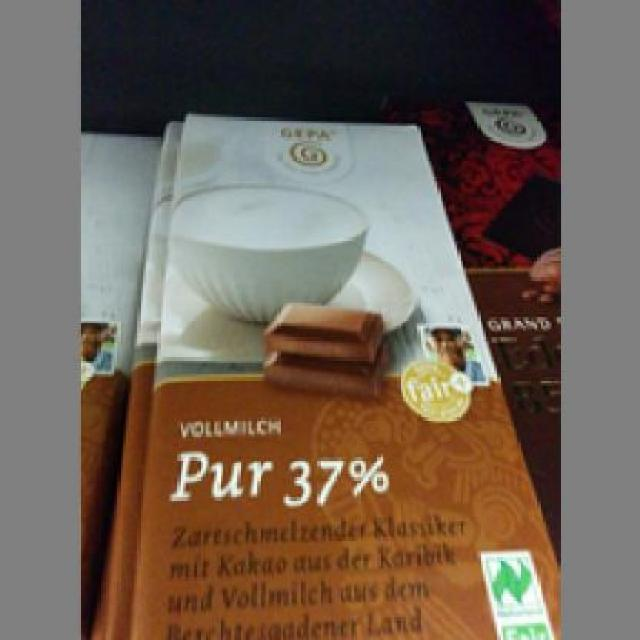Chocolate: (128, 112, 548, 638)
